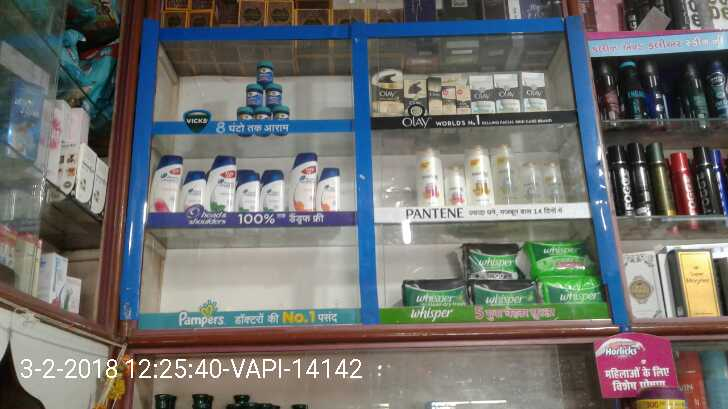vicks: (234, 58, 285, 123)
